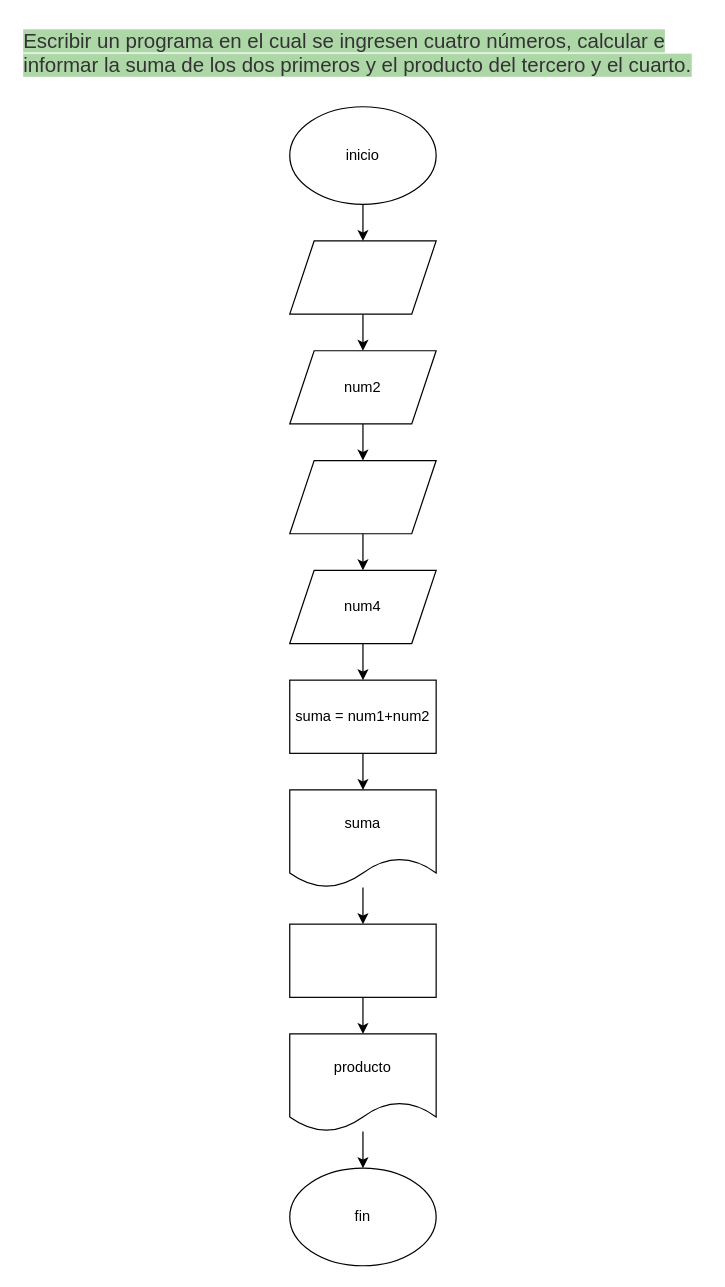
Some shapes in this 725 by 1287 pixel diagram are drawn without their labels. The box of each missing label's shape, as (x1, y1, x2, y2) in pixels:
num1: (289, 240, 436, 314)
num3: (289, 459, 436, 534)
producto = num3*num4: (289, 923, 436, 997)
